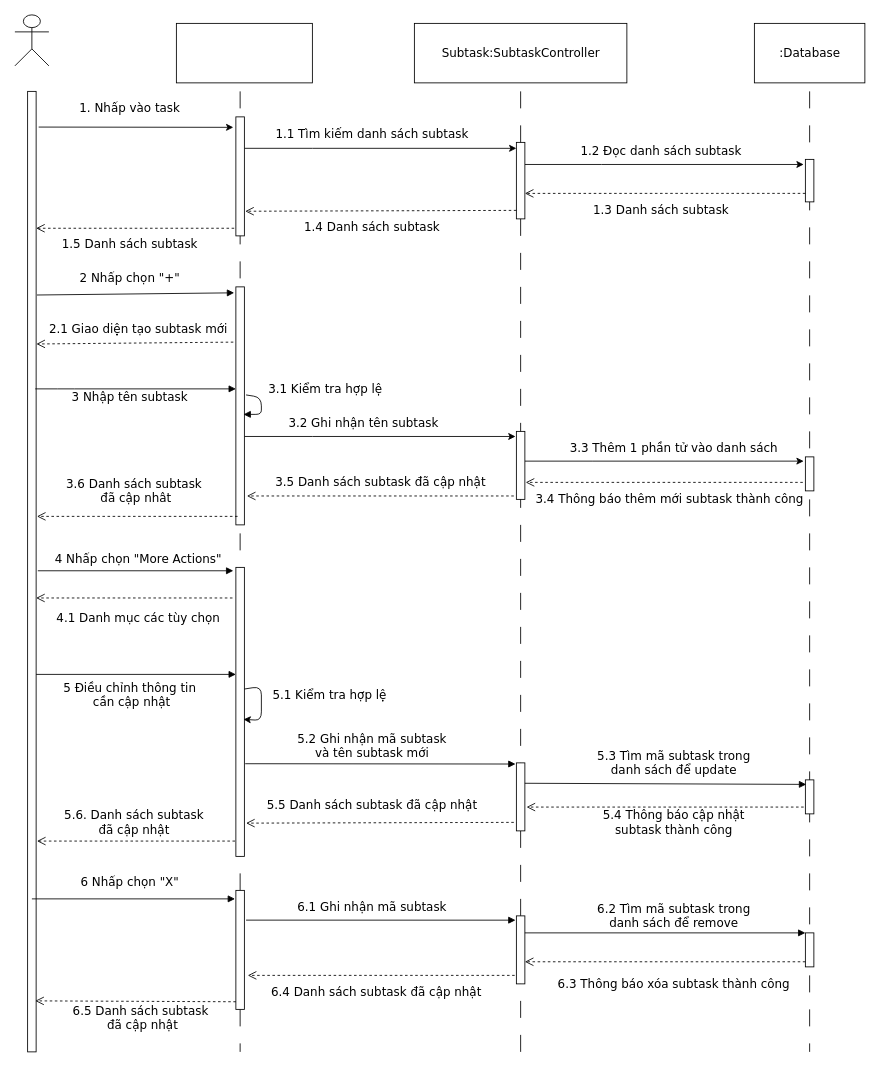
Image size: 880x1067. Some labels were removed from this diagram. Here are the shapes that lost their labels. From the top down, the centre of each, then its label:
the point at 31,40: :User
the point at 244,53: Giao diện MyTask :UI
